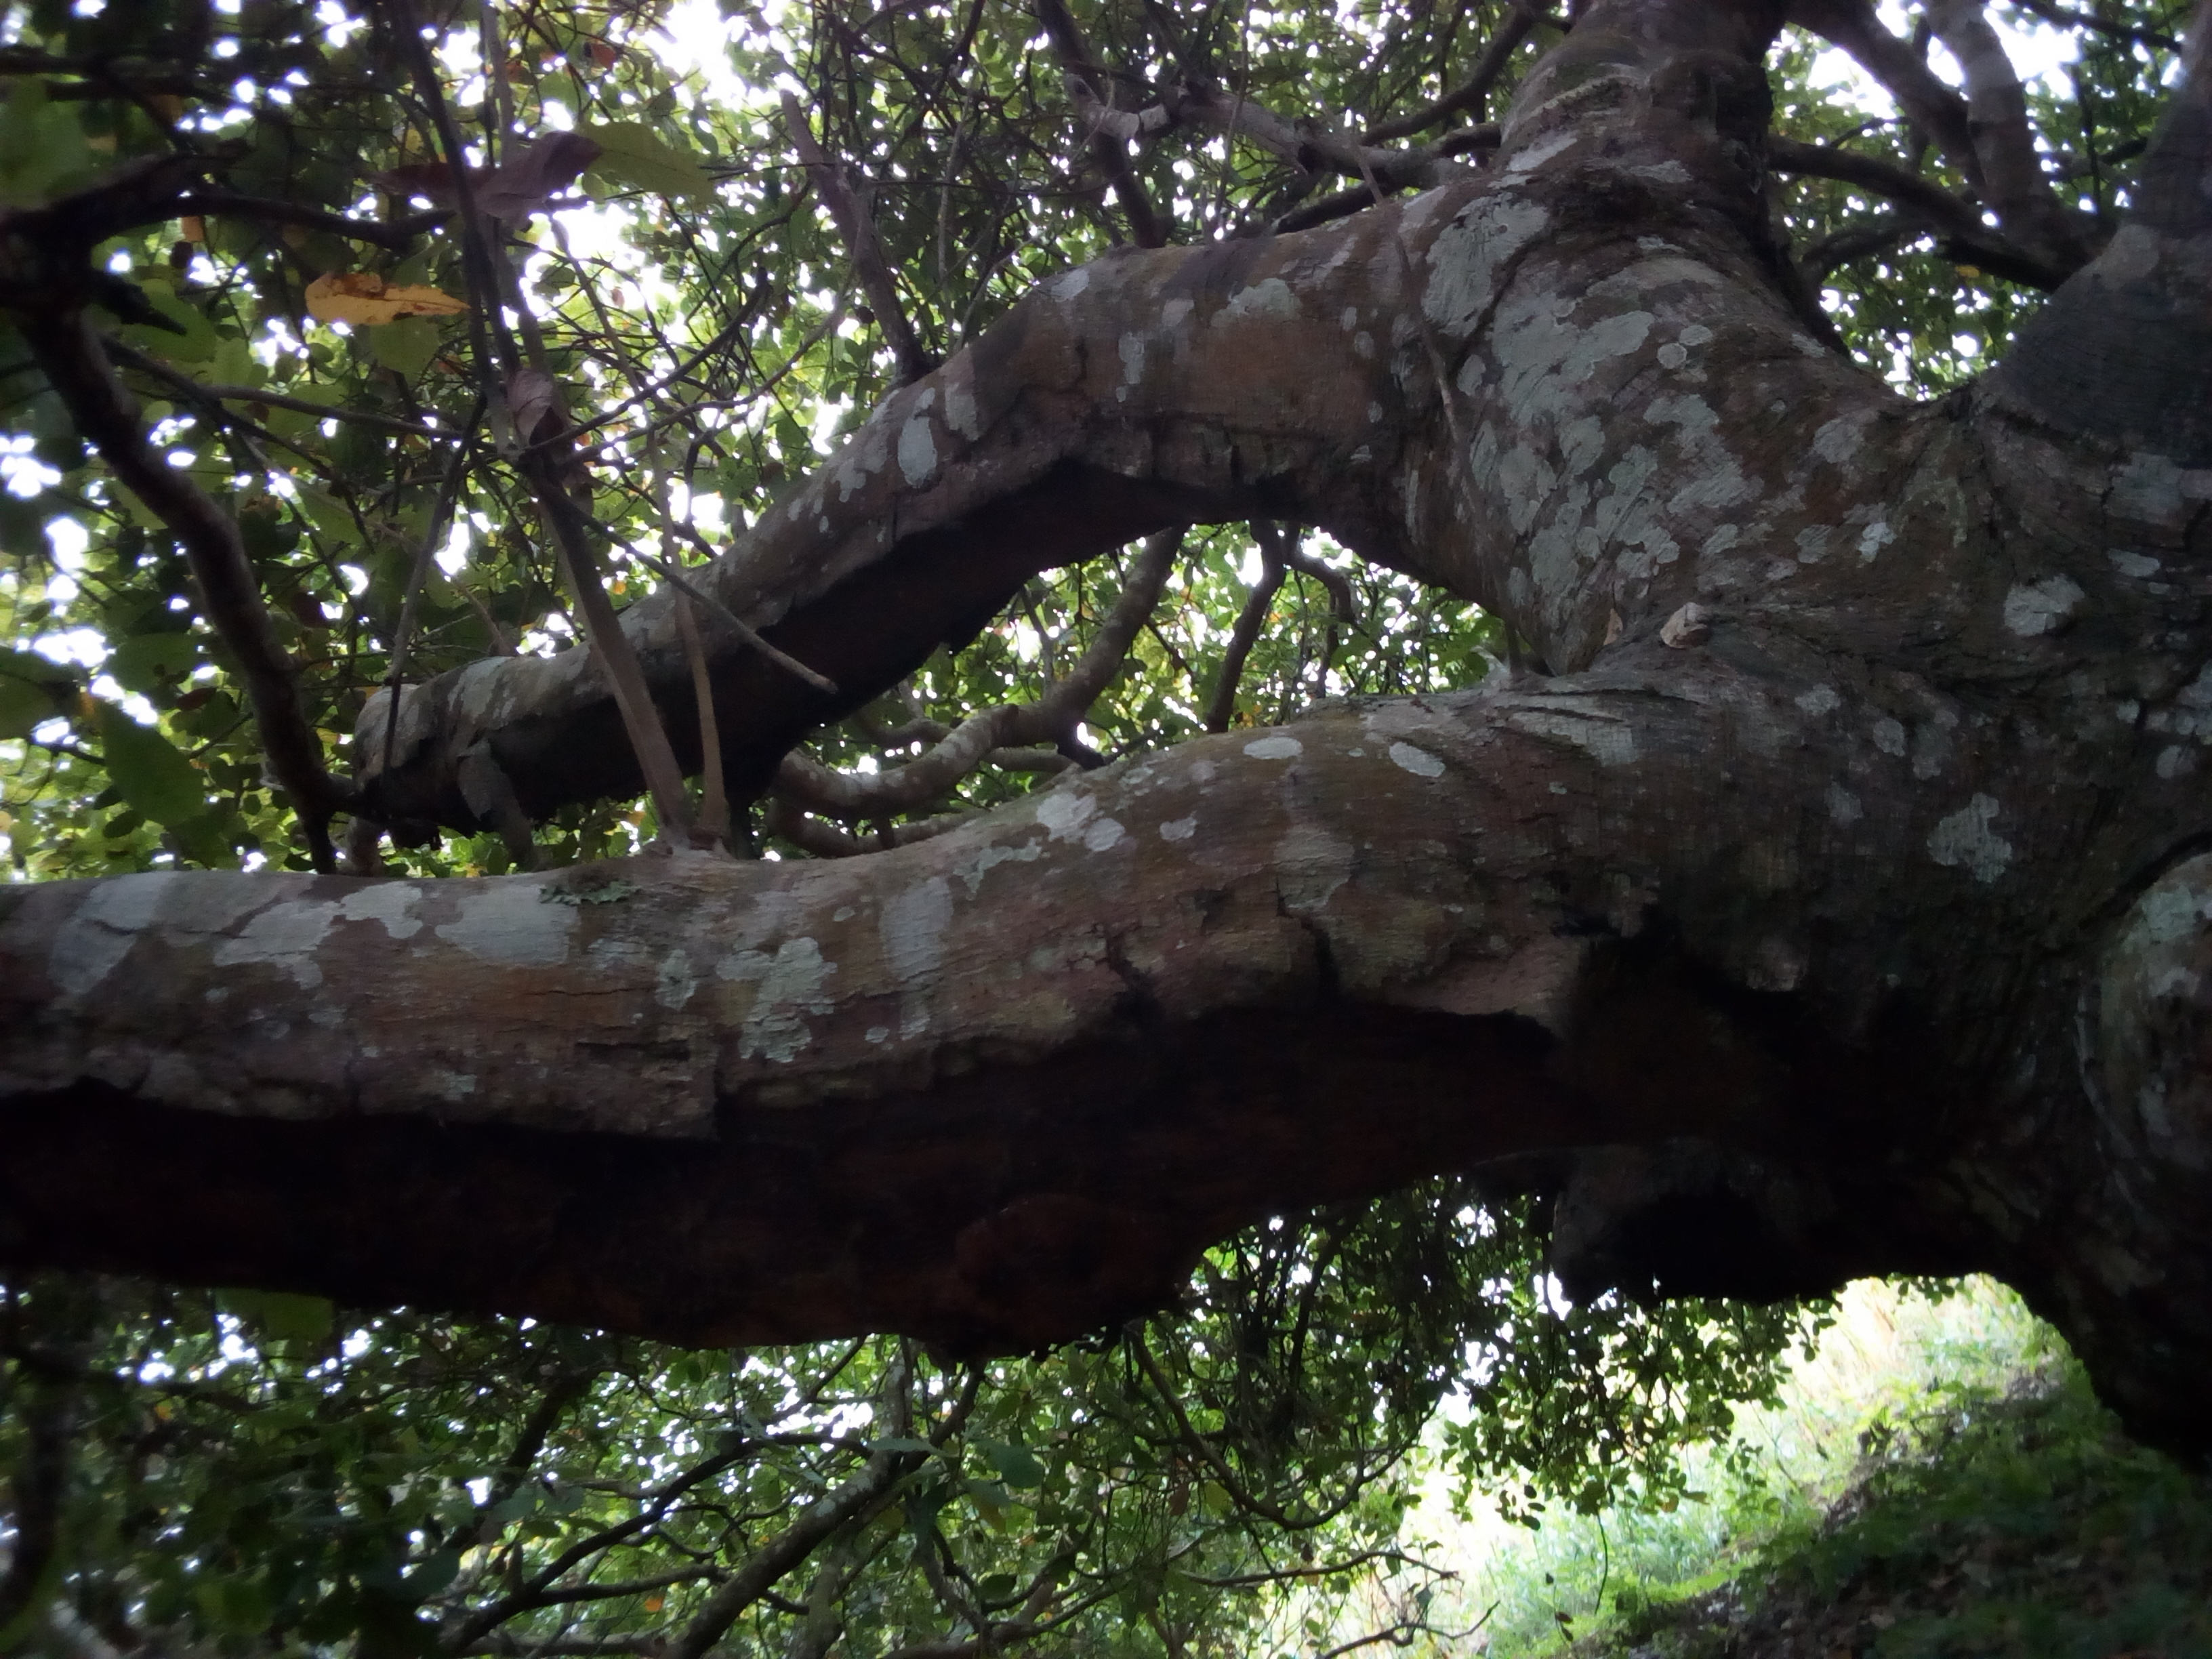Termites: (7, 943, 1770, 1307)
